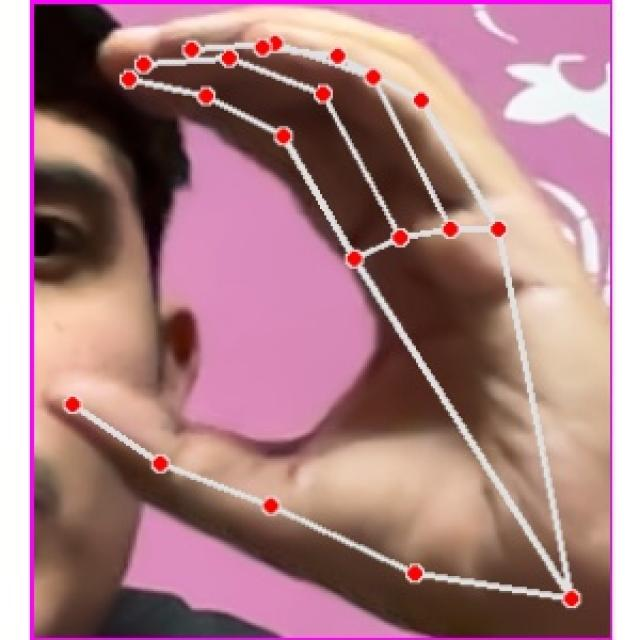C: (66, 9, 590, 639)
